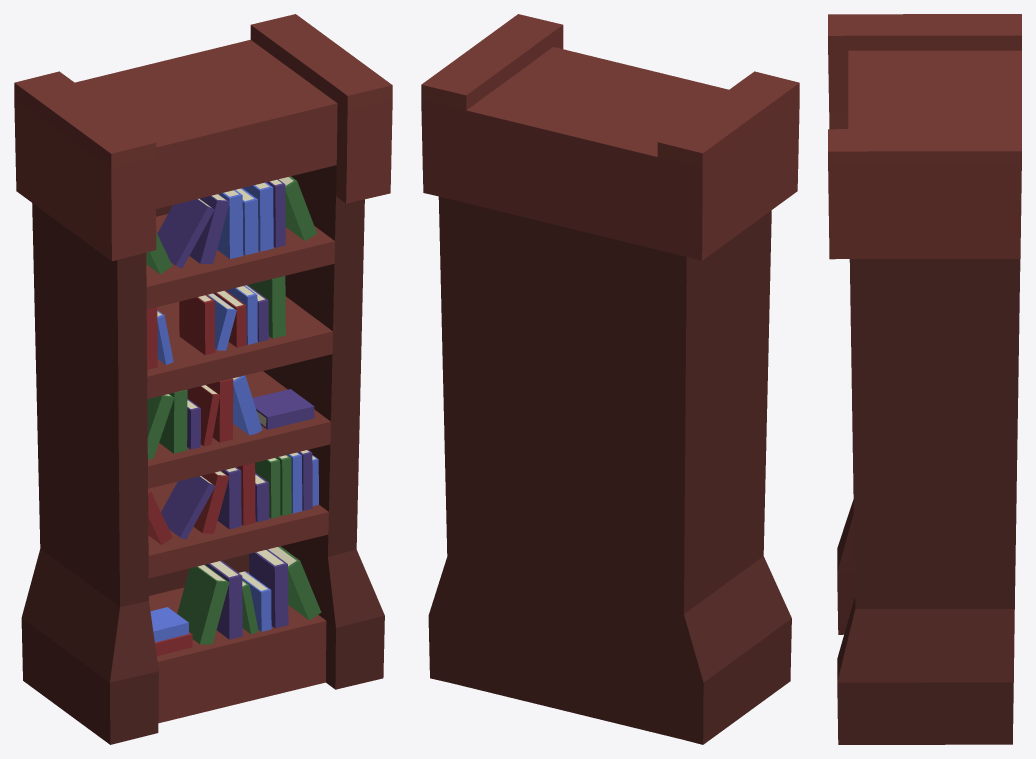
File: bookcase.glb
3 renders of one model, left to right at view 1: azimuth 30°, elevation 25°; view 2: azimuth 150°, elevation 25°; view 3: azimuth 270°, elevation 25°, orthographic.
Parts seen in each view (by area): view 1: BookCaseBooks; view 2: BookCaseBooks; view 3: BookCaseBooks.
Boxes of the visible parts, x1=… form: BookCaseBooks: x1=14, y1=14, x2=392, y2=744; BookCaseBooks: x1=421, y1=14, x2=799, y2=744; BookCaseBooks: x1=828, y1=14, x2=1021, y2=744.
Size of the model in its own units: 0.8893 by 1.8 by 0.5305.
